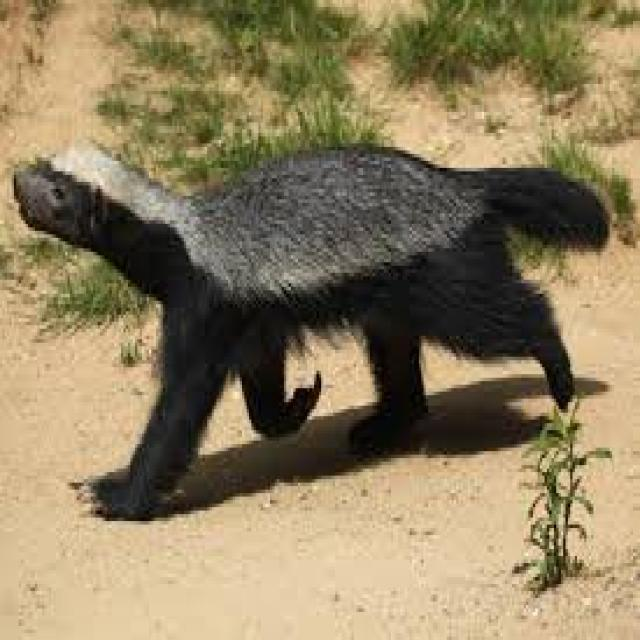Badger: (11, 129, 618, 528)
